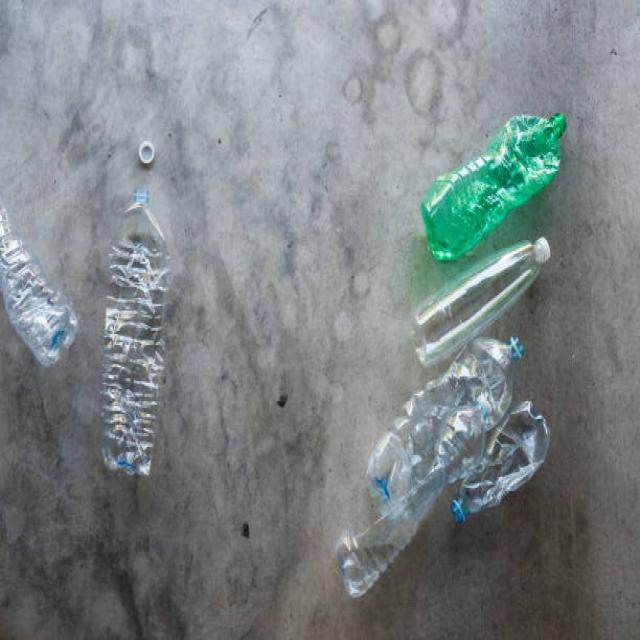plastic: (407, 114, 549, 606), (110, 188, 158, 476), (1, 229, 82, 364)
